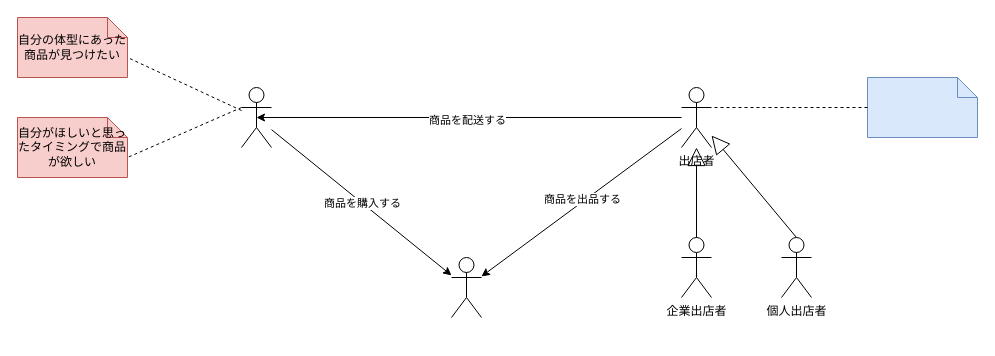
The diagram is 995 pixels wide and 356 high, and some of its shapes have lost their labels. Each missing label, with the centre of its shape:
ECサイト運営社: point (466, 287)
一般消費者: point (256, 117)
自社のニッチな商品を求めている消費者に届けたい: point (922, 107)
